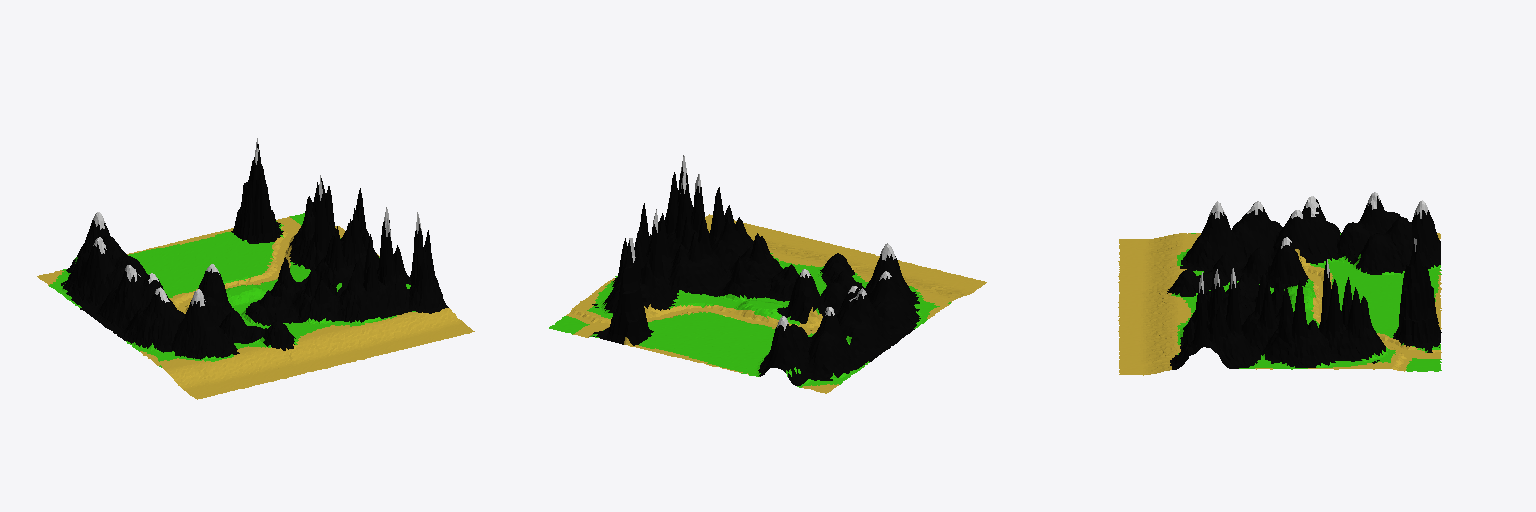
File: land.obj
The picture shows the model from 3 angles: view 1: azimuth 30°, elevation 25°; view 2: azimuth 150°, elevation 25°; view 3: azimuth 270°, elevation 25°; orthographic projection.
Visible parts, largest first — view 1: Plane; view 2: Plane; view 3: Plane.
Part boxes in pixels (x1,y1,x2,y2): Plane: (37,138,474,399); Plane: (549,155,986,393); Plane: (1118,192,1441,375).
Bounding box in the file's own units: 101 × 35.02 × 101.